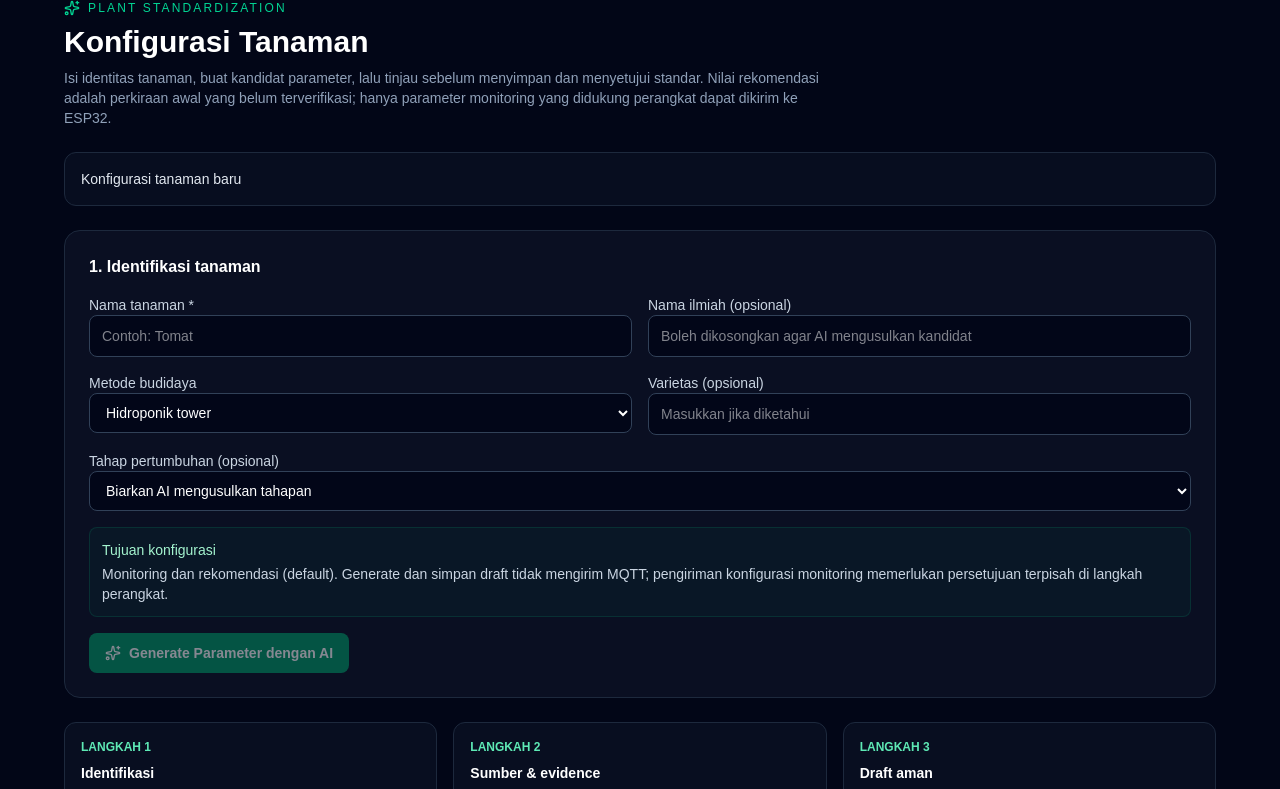
Test: AI Plant Setup page › keeps AI candidates visible when source search is forbidden by research permissions
Step 1. Type "Tomat" into the field labelled "Nama tanaman *" → (360, 336), box x1=89 y1=315 x2=632 y2=357
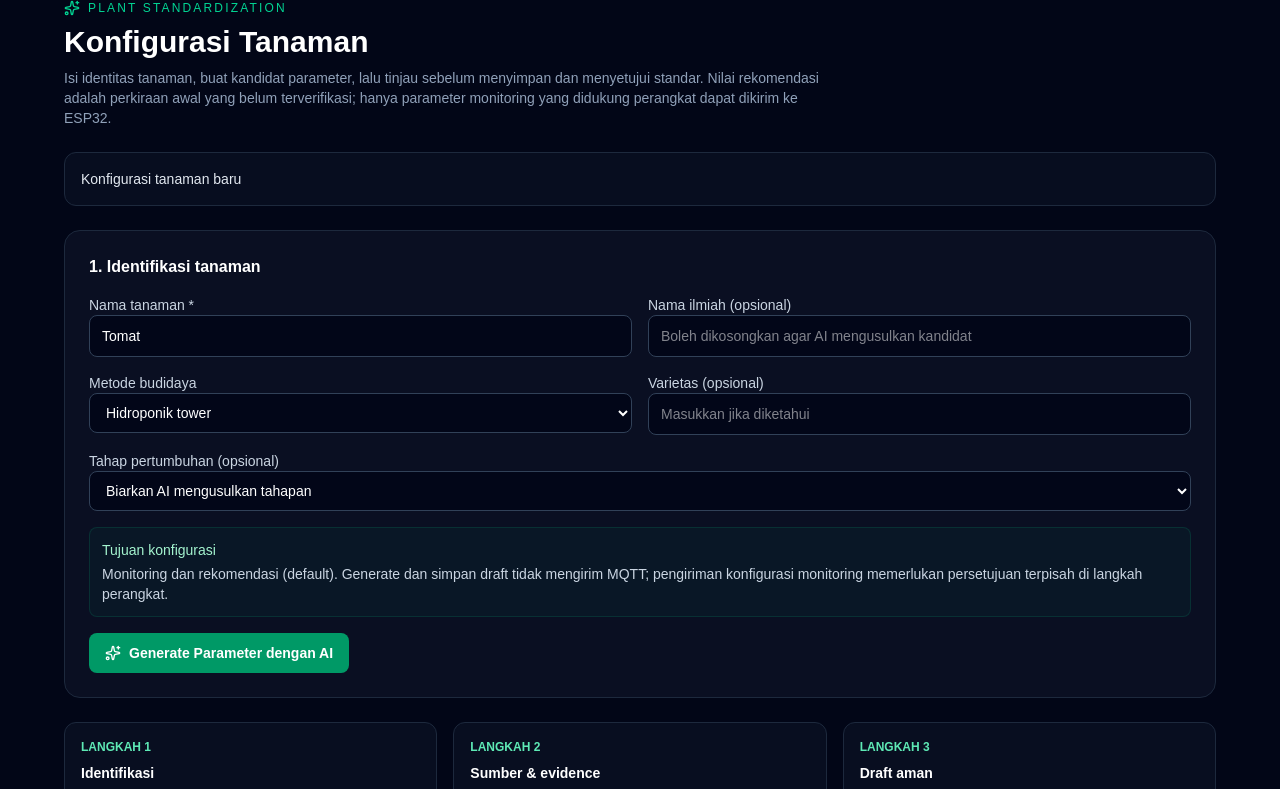
Step 2. Click the button "Generate Parameter dengan AI" → (219, 653), box x1=89 y1=633 x2=349 y2=673
(page scrolled)
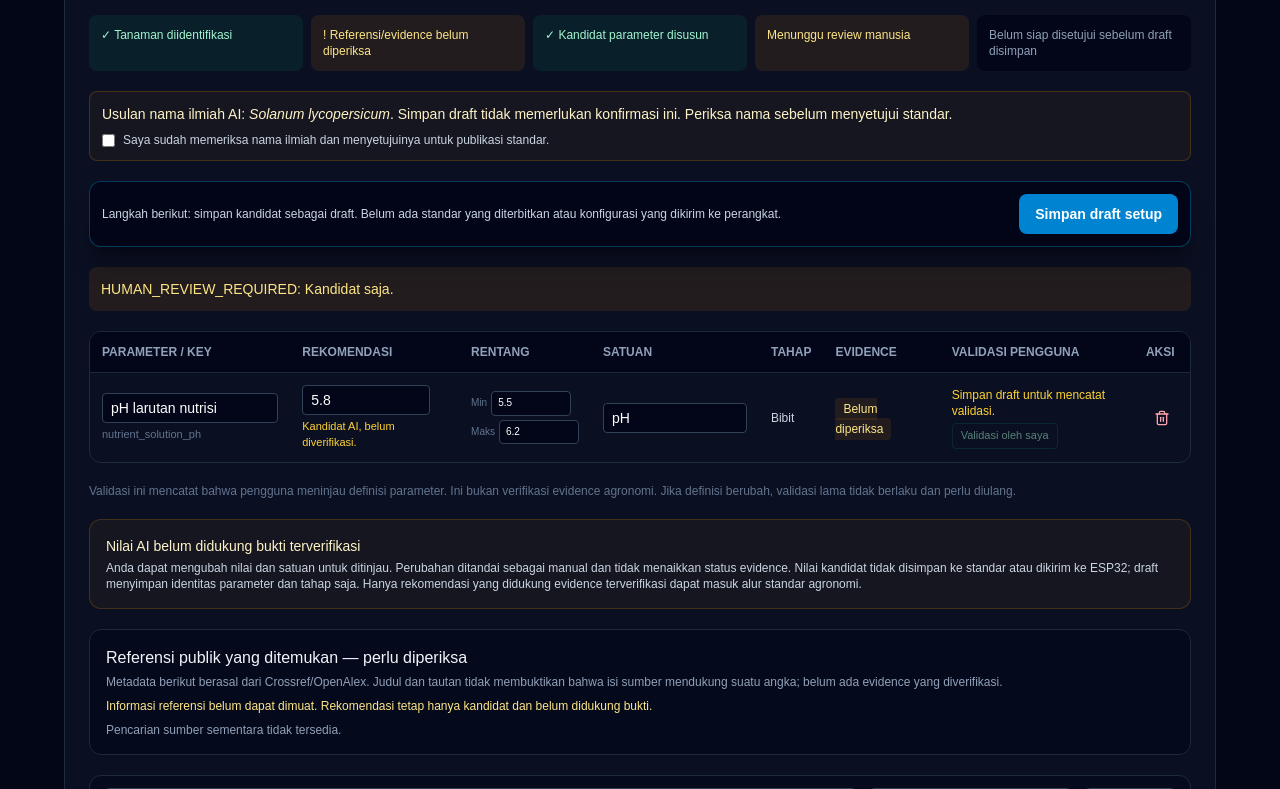
Result: the text "Informasi referensi belum dapat dimuat" is shown at x1=106 y1=699 x2=652 y2=713
Result: the number field showing "5.8" is shown at x1=302 y1=385 x2=430 y2=415
